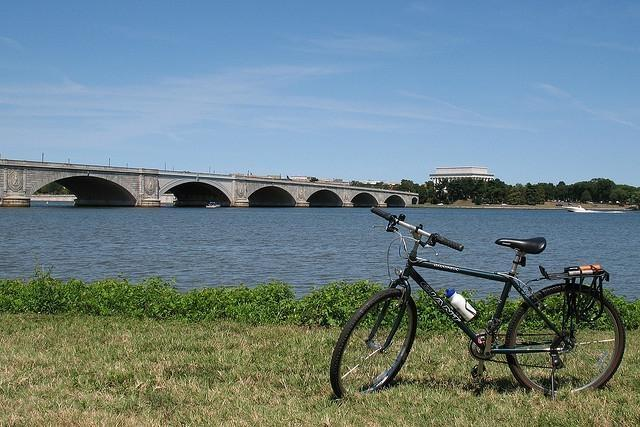bicycle: (328, 209, 618, 399)
